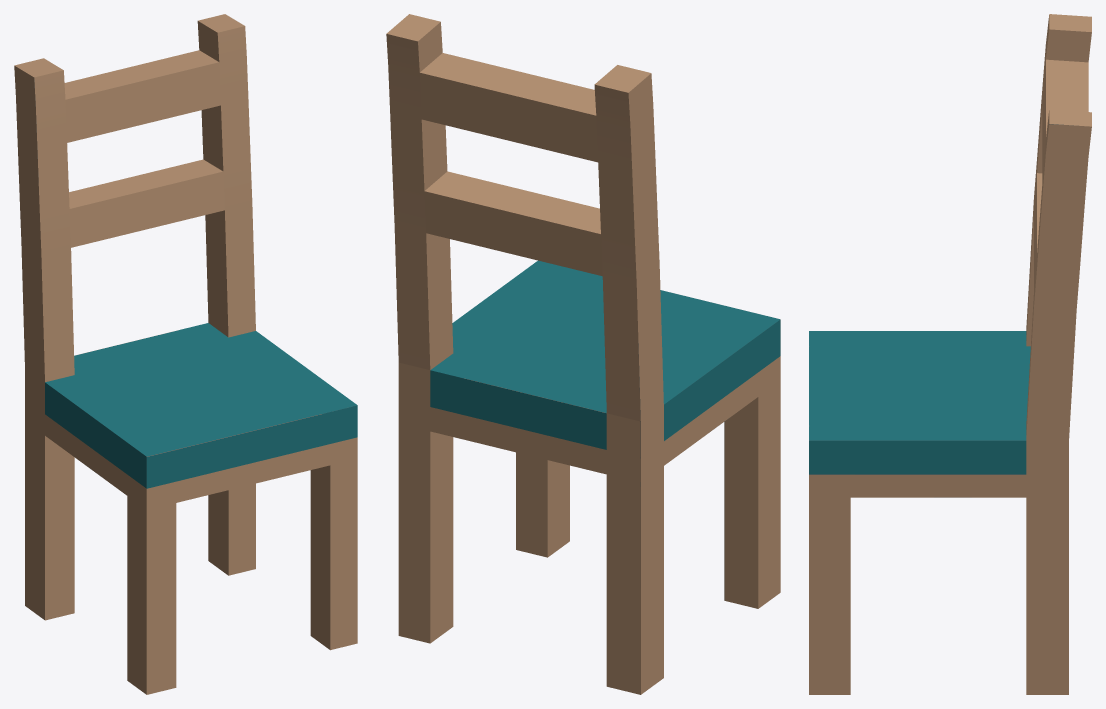
File: chair.fbx
The picture shows the model from 3 angles, left to right: view 1: azimuth 30°, elevation 25°; view 2: azimuth 150°, elevation 25°; view 3: azimuth 270°, elevation 25°; orthographic projection. The views are drawn at different scales.
Parts seen in each view (by area): view 1: chair; view 2: chair; view 3: chair.
Part boxes in pixels (box(x1,y1,x2,y2)): chair: box(14, 14, 357, 694); chair: box(386, 14, 780, 694); chair: box(809, 14, 1091, 694).
Bounding box in the file's own units: 0.5 × 1.21 × 0.5442.
